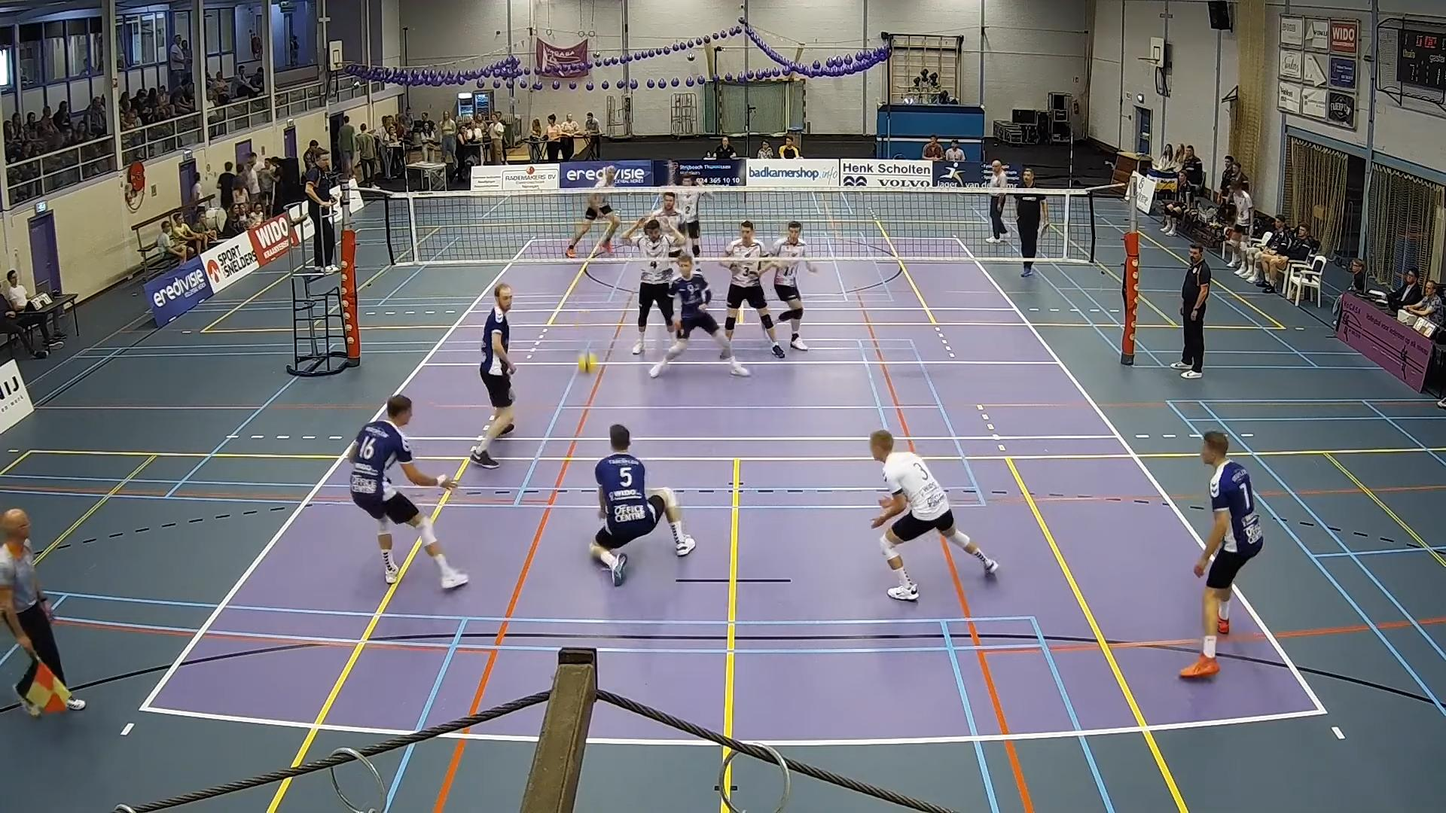Player: (347, 394, 468, 589), (869, 431, 998, 601), (1180, 431, 1263, 678), (650, 254, 749, 377), (470, 283, 515, 468), (724, 221, 784, 358), (623, 218, 682, 355), (770, 221, 816, 350), (566, 166, 620, 257), (674, 175, 705, 257), (638, 190, 683, 235)
Receive: (585, 421, 697, 583)
ball: (575, 356, 603, 373)
